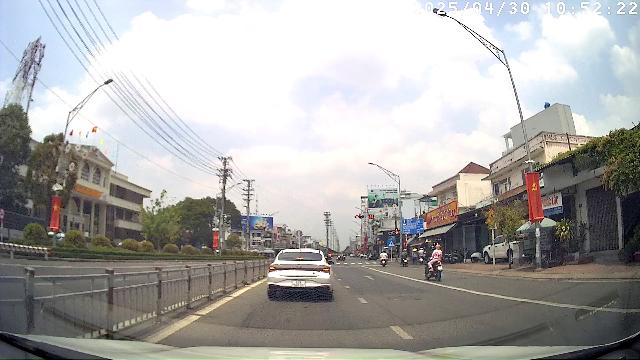423a-duong-nguoi-di-bo-sang-ngang-1: (388, 239, 395, 247)
